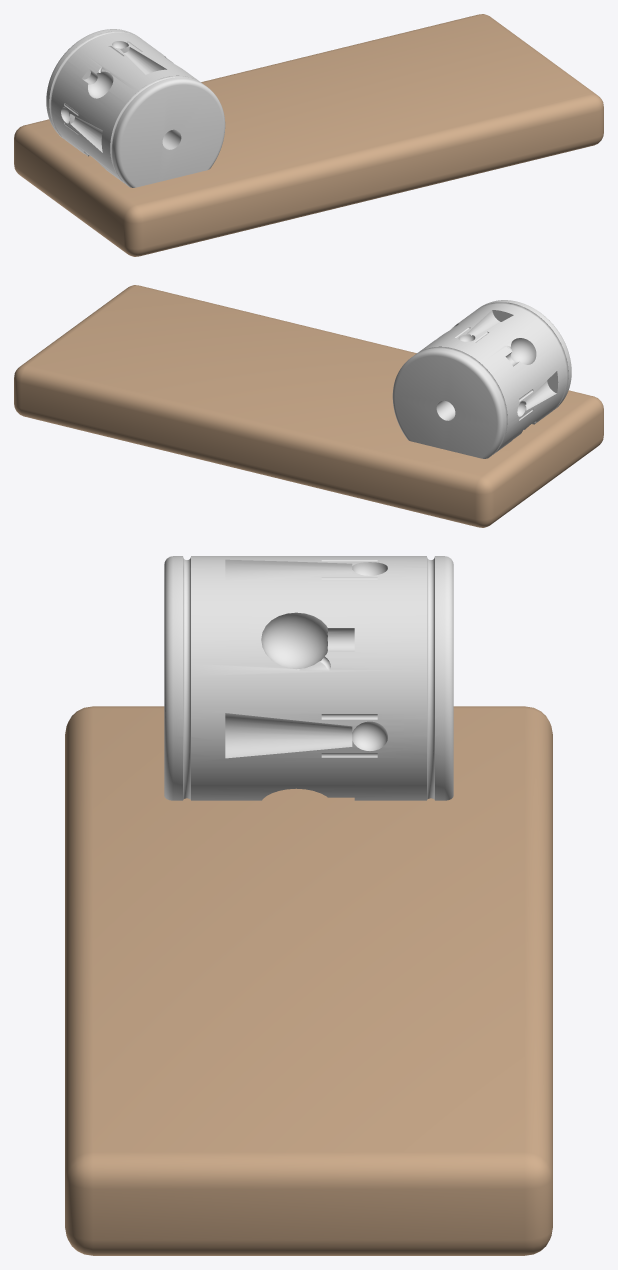
The model's file is seal.glb.
3 renders of one model, top to bottom at view 1: azimuth 30°, elevation 25°; view 2: azimuth 150°, elevation 25°; view 3: azimuth 270°, elevation 25°, orthographic. The views are drawn at different scales.
Visible parts, largest first — view 1: Envelope, Seal; view 2: Envelope, Seal; view 3: Envelope, Seal.
Boxes of the visible parts, box(x1,y1,x2,y2) form: Envelope: box(14, 14, 603, 256); Seal: box(46, 29, 225, 187); Envelope: box(14, 285, 603, 527); Seal: box(392, 300, 571, 458); Envelope: box(65, 706, 552, 1255); Seal: box(164, 556, 453, 800).
Size of what is drawn, in the model's own units: 4.35 by 1.28 by 1.92.
